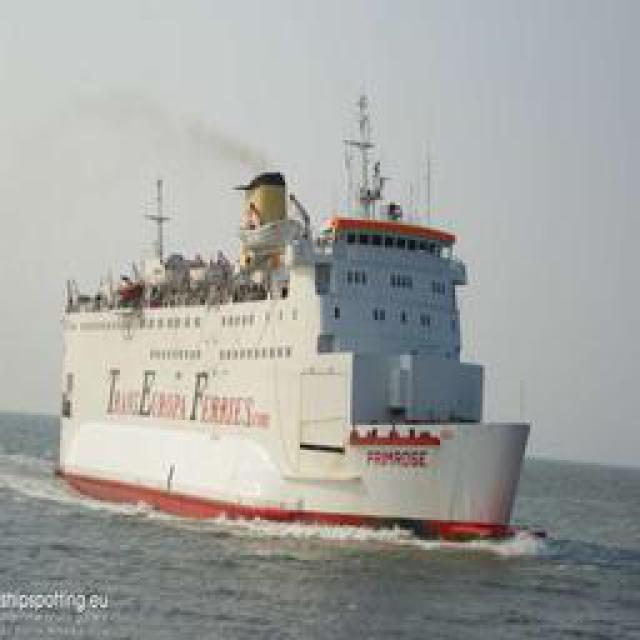Ship: (53, 79, 558, 534)
